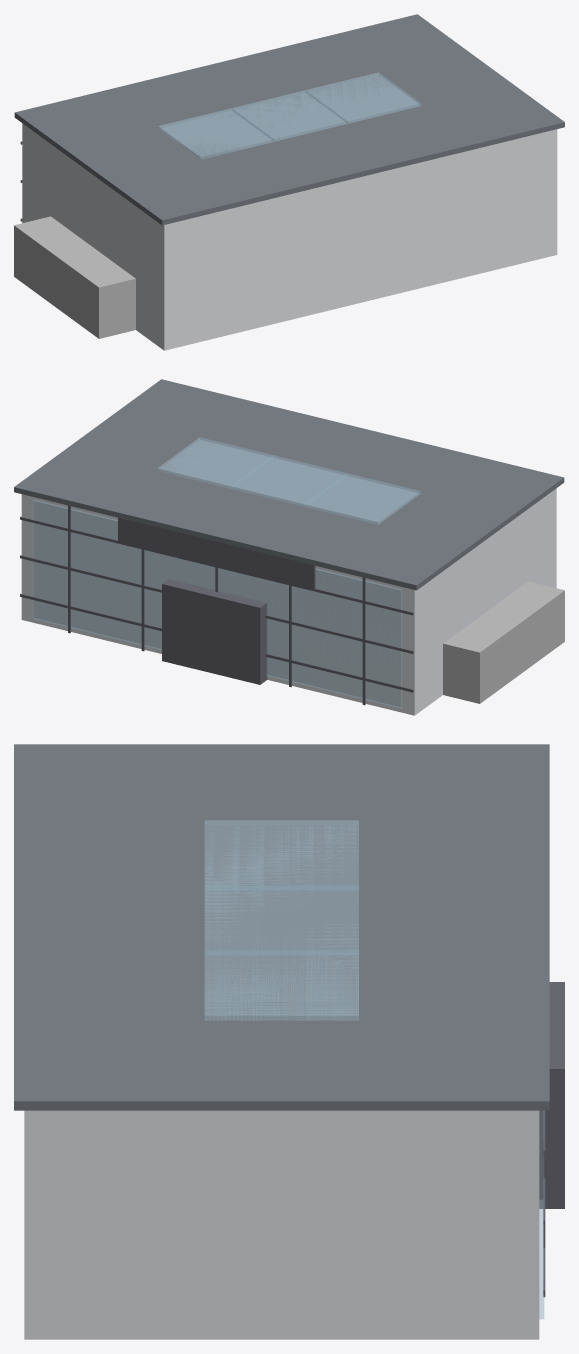
File: mall.fbx
3 renders of one model, top to bottom at view 1: azimuth 30°, elevation 25°; view 2: azimuth 150°, elevation 25°; view 3: azimuth 270°, elevation 25°, orthographic. The views are drawn at different scales.
Visible parts, largest first — view 1: MainBody, Roof, ParkingRamp, Skylight_0, Skylight_2, Skylight_1; view 2: Roof, MainBody, GlassFront, ParkingRamp, EntranceFrame, SignBoard, Skylight_0, Skylight_1, Skylight_2, SteelH_2.5, SteelH_1, SteelH_4 (+1 smaller); view 3: Roof, MainBody, Skylight_2, Skylight_0, Skylight_1, EntranceFrame, GlassFront.
Part boxes in pixels (x1,y1,x2,y2): MainBody: [22, 123, 557, 350]; Roof: [14, 14, 564, 225]; ParkingRamp: [14, 216, 135, 338]; Skylight_0: [158, 108, 274, 159]; Skylight_2: [305, 72, 421, 123]; Skylight_1: [232, 90, 347, 141]; Roof: [14, 379, 564, 590]; MainBody: [21, 488, 556, 715]; GlassFront: [32, 499, 402, 708]; ParkingRamp: [443, 581, 564, 703]; EntranceFrame: [162, 579, 267, 684]; SignBoard: [118, 517, 315, 590]; Skylight_0: [304, 473, 420, 524]; Skylight_1: [231, 455, 346, 506]; Skylight_2: [157, 437, 273, 488]; SteelH_2.5: [20, 555, 413, 653]; SteelH_1: [20, 594, 413, 692]; SteelH_4: [20, 516, 413, 615]; Roof: [14, 744, 549, 1110]; MainBody: [24, 1110, 539, 1339]; Skylight_2: [204, 950, 358, 1020]; Skylight_0: [204, 820, 358, 889]; Skylight_1: [204, 885, 358, 954]; EntranceFrame: [539, 982, 564, 1208]; GlassFront: [539, 1111, 544, 1319].
Bounding box in the file's own units: 17.7 × 5.3 × 10.7.
